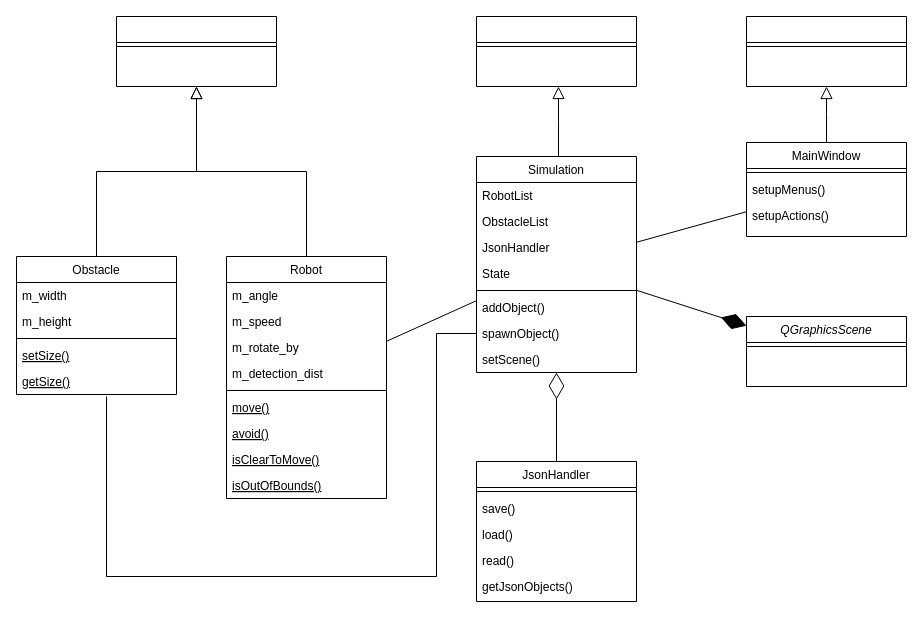
The diagram is 923 pixels wide and 618 high, and some of its shapes have lost their labels. Each missing label, with the centre of its shape:
QGraphicsItem: the point at 196,51
QGraphicsView: the point at 556,51
QMainWindow: the point at 826,51
